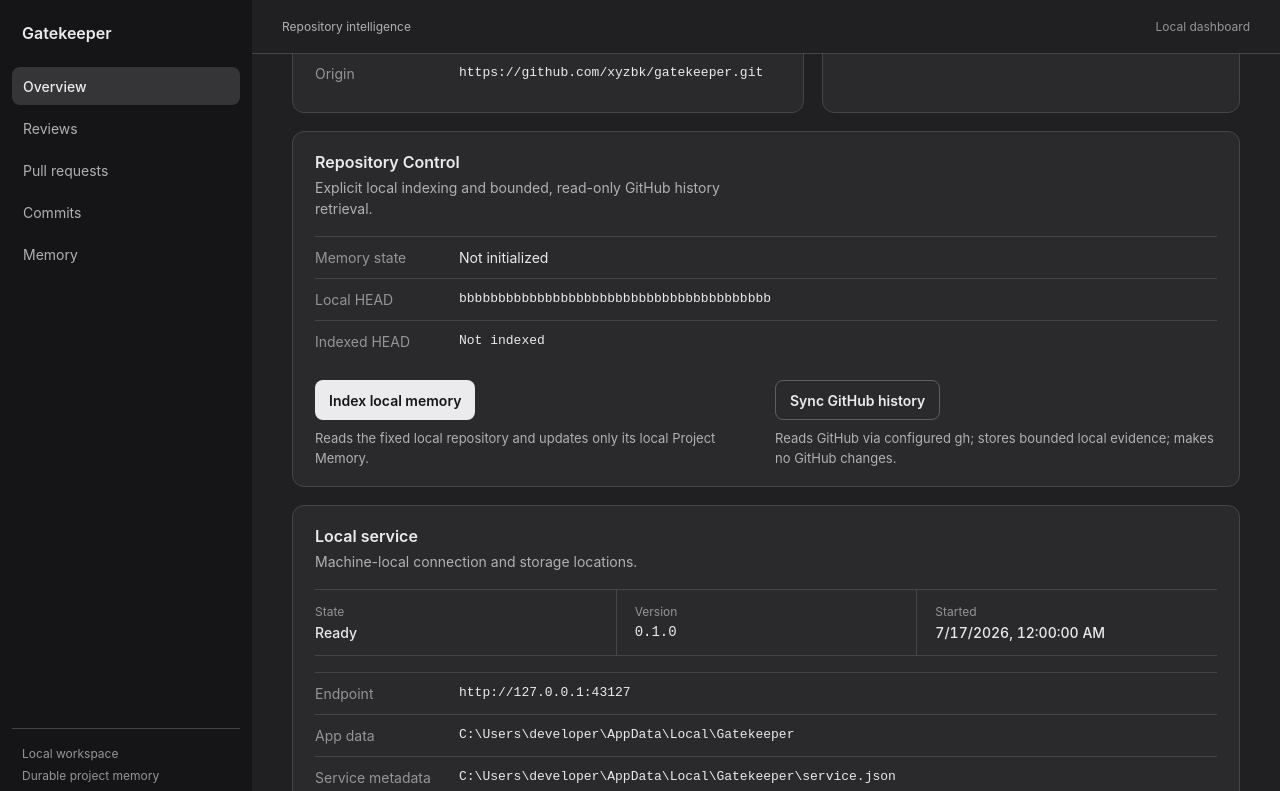
Scenario: dashboard application shell › keeps the last repository control result while navigating the dashboard
(page scrolled)
Check: the heading "Repository Control" is shown, box [315,152,460,172]
Click the button "Index local memory": click(395, 400) [315,380,475,420]
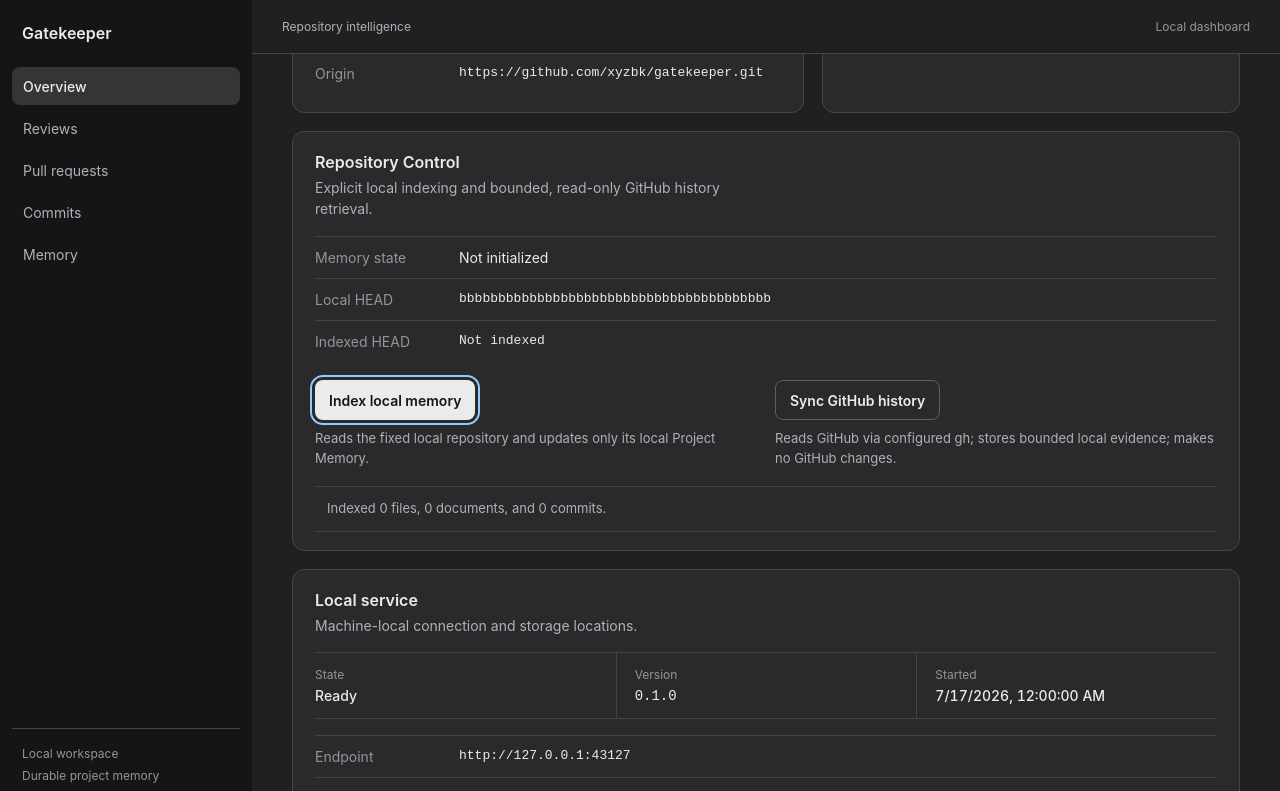
Check: the text "Indexed 0 files, 0 documents, and 0 commits." is shown, box [315,486,1217,532]
Click the link with aria-label "Pull request evidence": click(66, 170) [23,162,108,178]
(page scrolled)
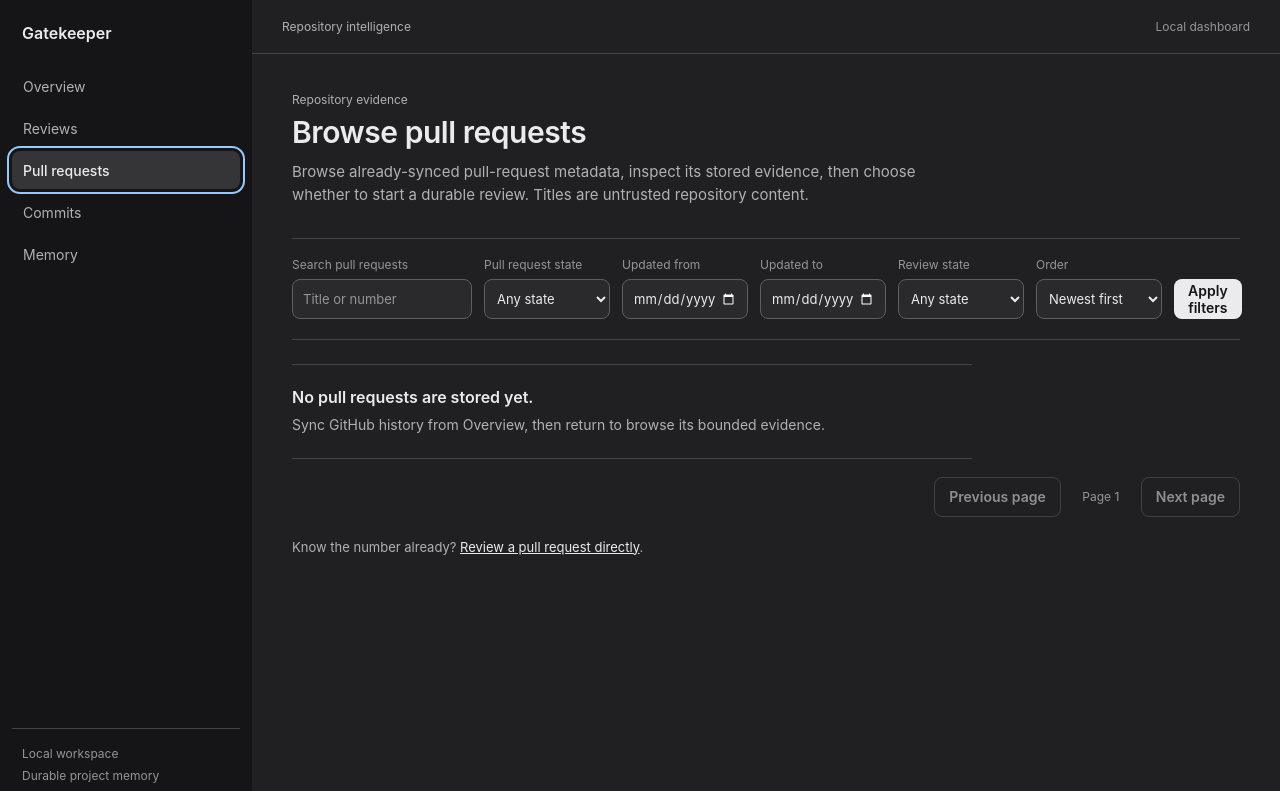
Check: the heading "Browse pull requests" is shown, box [292,114,586,150]
Click the link with aria-label "Repository overview": click(54, 86) [23,78,86,94]
(page scrolled)
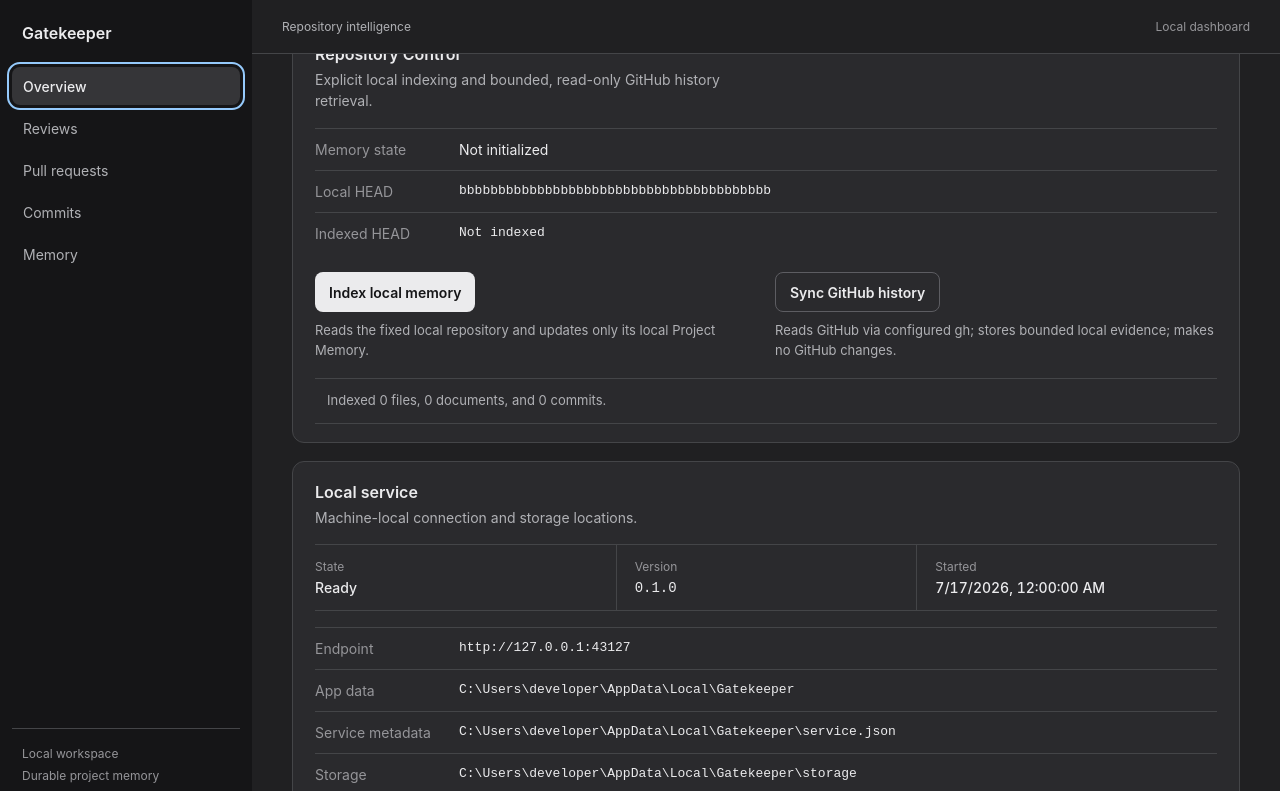
Check: the text "Indexed 0 files, 0 documents, and 0 commits." is shown, box [315,378,1217,424]
